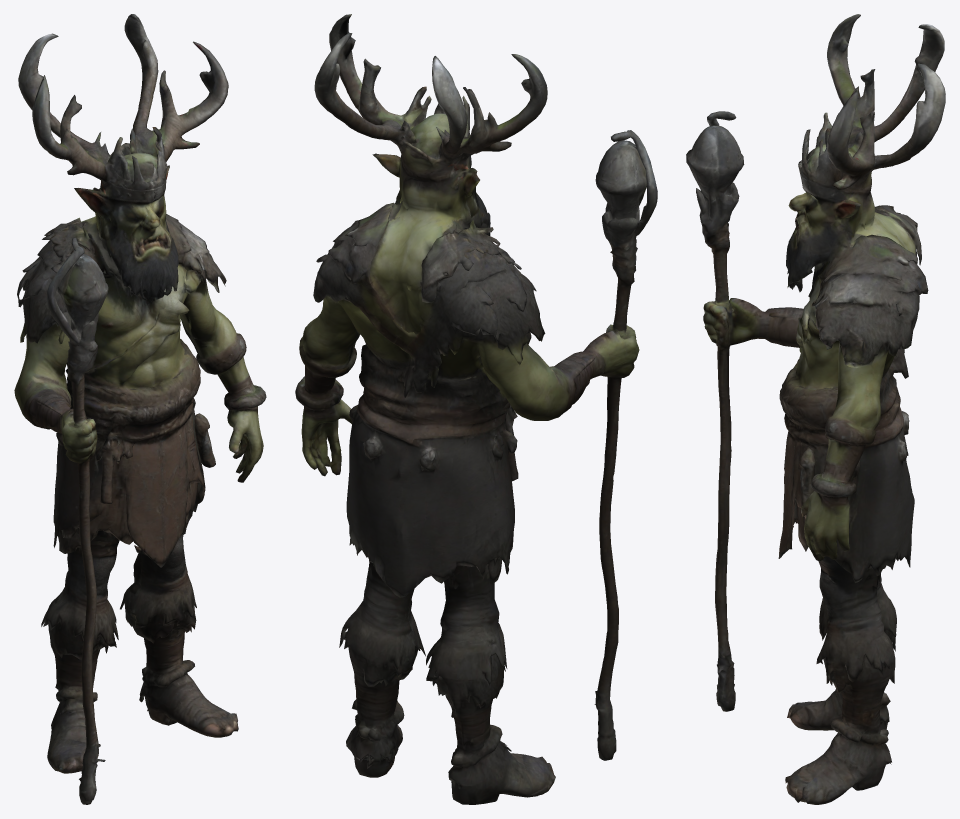
The model's file is meshy_01972c6b-c51b-73f7-a3ad-4379b68dfd82.glb.
3 renders of one model, left to right at view 1: azimuth 30°, elevation 25°; view 2: azimuth 150°, elevation 25°; view 3: azimuth 270°, elevation 25°, orthographic. The views are drawn at different scales.
Bounding box in the file's own units: 0.814 × 2 × 0.6531.
1 material, 1 textured.
